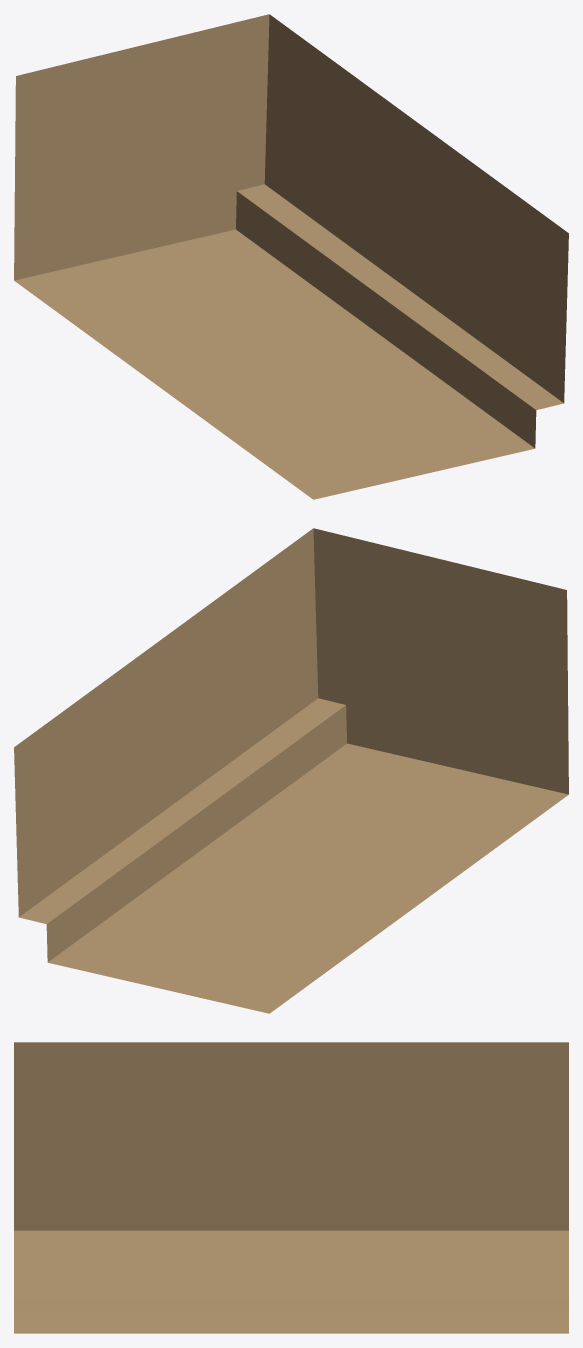
The picture shows the model from 3 angles, top to bottom: view 1: azimuth 30°, elevation 25°; view 2: azimuth 150°, elevation 25°; view 3: azimuth 270°, elevation 25°; orthographic projection. The views are drawn at different scales.
Parts seen in each view (by area): view 1: 0_3_0_1_2_2_2_2_1; view 2: 0_3_0_1_2_2_2_2_1; view 3: 0_3_0_1_2_2_2_2_1.
Boxes of the visible parts, x1,y1,x2,y2 form: 0_3_0_1_2_2_2_2_1: (14,14,568,499); 0_3_0_1_2_2_2_2_1: (14,528,568,1013); 0_3_0_1_2_2_2_2_1: (14,1042,568,1333).
Bounding box in the file's own units: 13.3 × 10.3 × 27.
